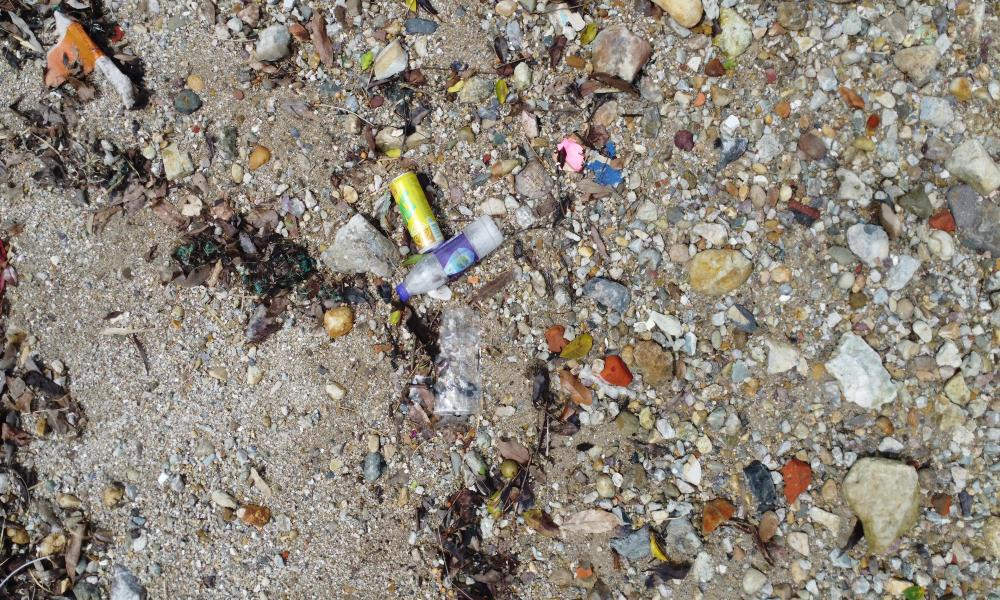can: (393, 167, 444, 255)
plastic bottle: (400, 215, 504, 300)
